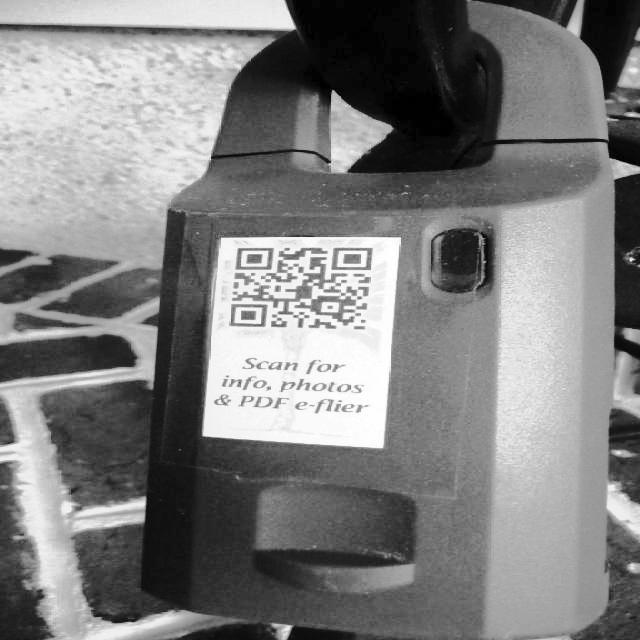qr_code: (228, 248, 373, 330)
